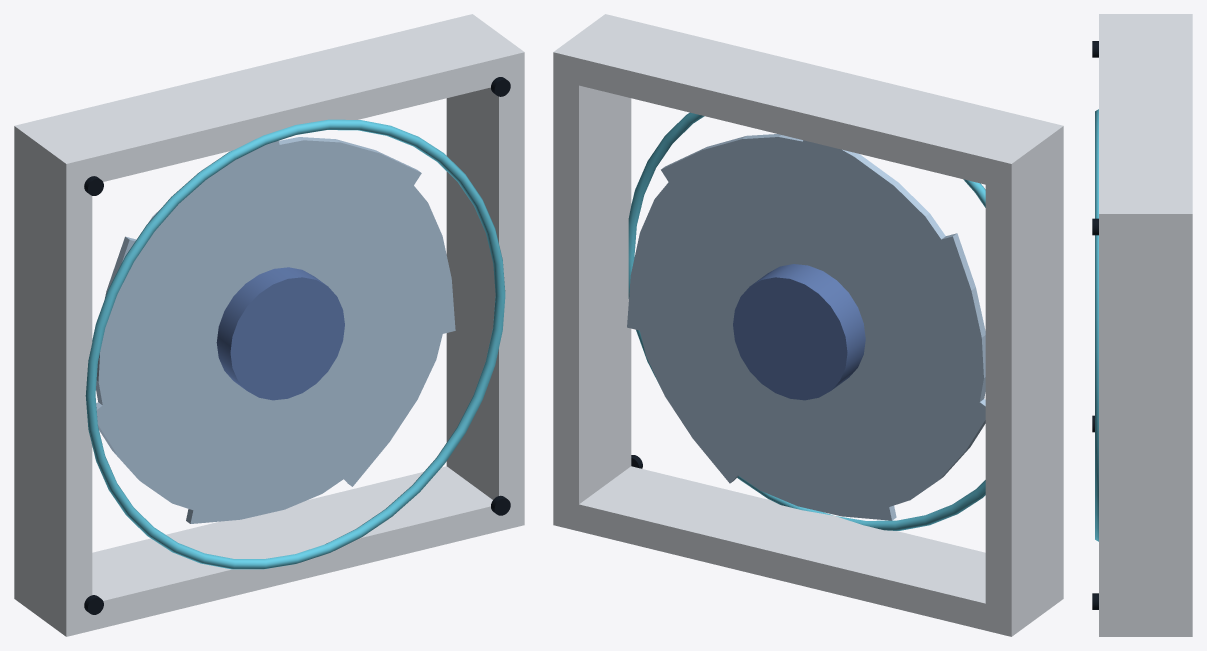
Rendered from retail-lian-li-uni-fan-tl-140-lcd-wireless-white.glb.
3 renders of one model, left to right at view 1: azimuth 30°, elevation 25°; view 2: azimuth 150°, elevation 25°; view 3: azimuth 270°, elevation 25°, orthographic. The views are drawn at different scales.
Parts seen in each view (by area): view 1: Frame edge (×4), Blade (×7), Intake rim, Motor hub; view 2: Frame edge (×4), Blade (×7), Motor hub, Intake rim; view 3: Frame edge (×3), Intake rim.
Boxes of the visible parts, <box> form: Frame edge (×4): <box>14,14,524,636</box>; Blade (×7): <box>96,137,455,523</box>; Intake rim: <box>85,119,505,569</box>; Motor hub: <box>216,267,344,400</box>; Frame edge (×4): <box>553,14,1063,636</box>; Blade (×7): <box>627,134,985,520</box>; Motor hub: <box>733,264,865,400</box>; Intake rim: <box>628,112,985,530</box>; Frame edge (×3): <box>1099,14,1192,636</box>; Intake rim: <box>1095,109,1098,541</box>.
Bounding box in the file's own units: 0.142 × 0.14 × 0.03.
